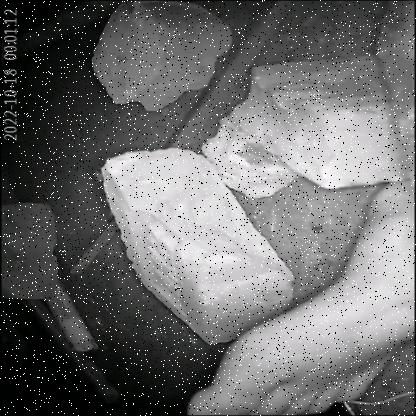leg: (132, 168, 416, 415)
